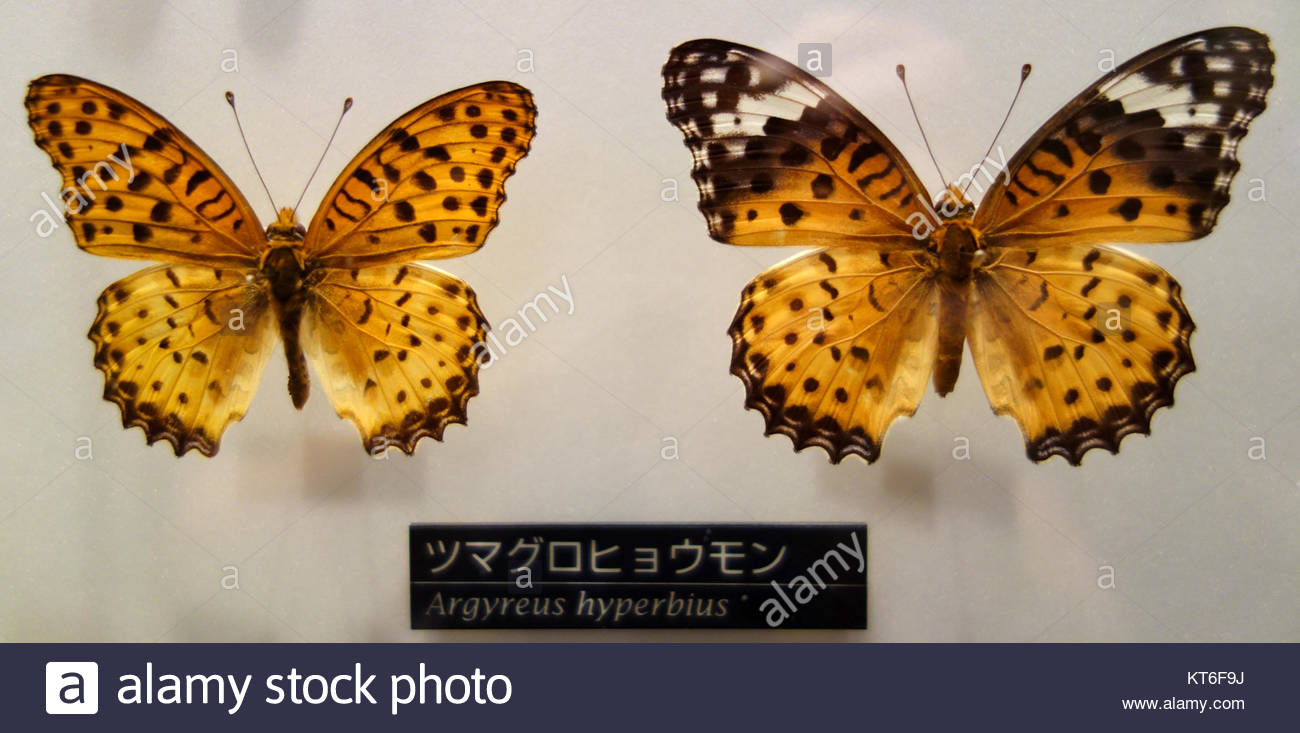Argyreus hyperbius: (664, 20, 1276, 472), (14, 62, 551, 457)
butterfly: (666, 22, 1278, 474), (16, 64, 553, 459)
